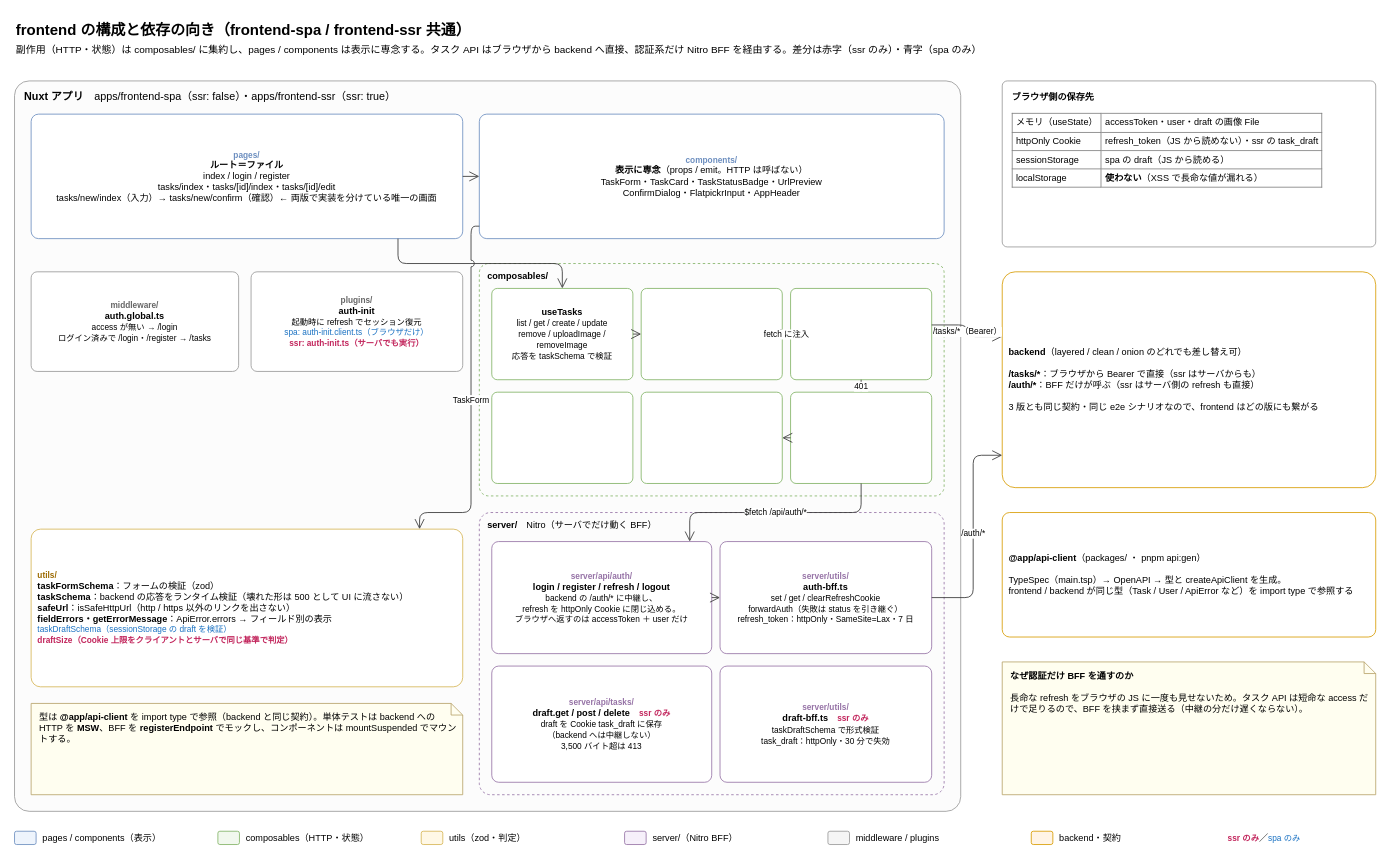
Some shapes in this 1390 by 862 pixel diagram are drawn without their labels. Each missing label, with the centre of its shape:
useApiClient openapi-fetch の createApiClient ssr: サーバでは apiBaseUrl: the point at 711,334
useAuth login / register / refresh logout / renewSession （refresh を 1 本に束ねる）: the point at 861,437
useAuthedFetch Bearer を付けて送信 401 なら 1 回だけ renew して再送: the point at 861,334
useAuthState useState accessToken / user （メモリだけ）: the point at 711,437
useTaskDraft spa のみ draft を sessionStorage に （taskDraftSchema で検証）: the point at 562,437
